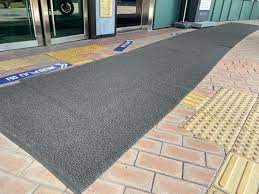guide_blocks: (188, 84, 259, 160), (208, 152, 259, 194), (54, 42, 102, 56), (1, 54, 54, 66)
